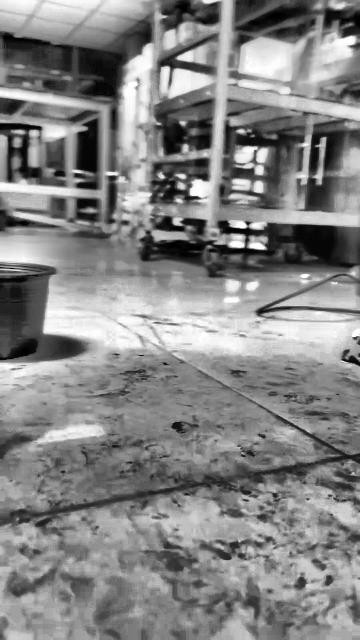pot: (0, 263, 55, 359)
